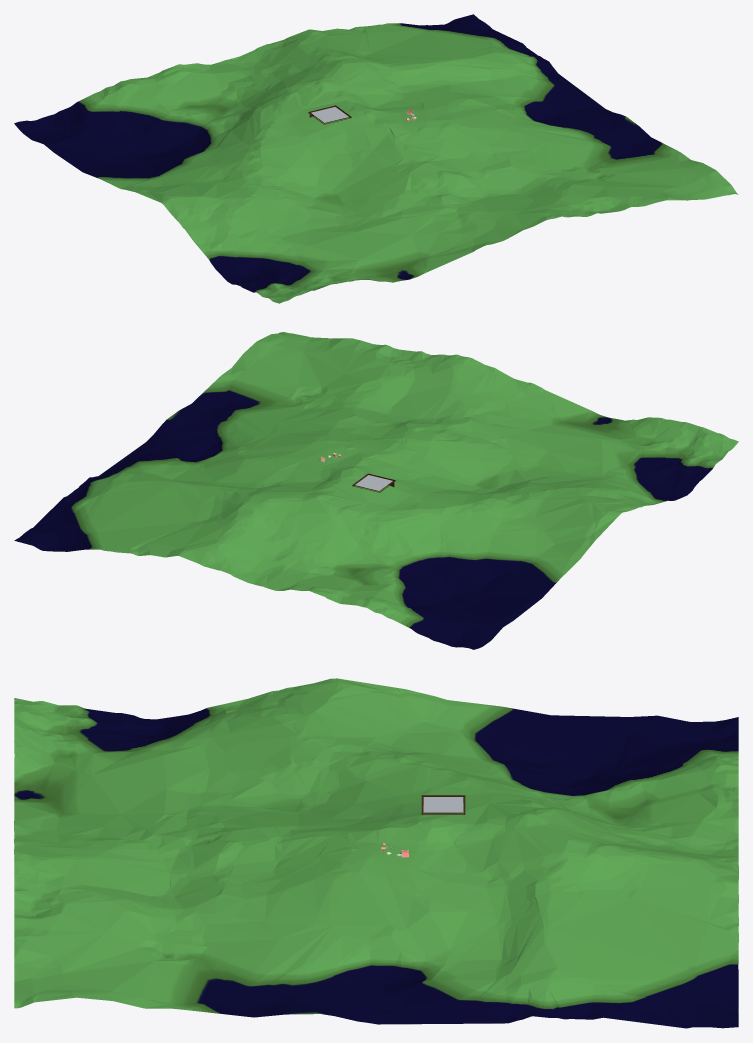
Rendered from survival.gltf.
3 renders of one model, top to bottom at view 1: azimuth 30°, elevation 25°; view 2: azimuth 150°, elevation 25°; view 3: azimuth 270°, elevation 25°, orthographic. The views are drawn at different scales.
Visible parts, largest first — view 1: TRI_C (height plane actually), TRI_C_PLACABLE (Testing Polygon); view 2: TRI_C (height plane actually); view 3: TRI_C (height plane actually), TRI_C_PLACABLE (Testing Polygon).
Boxes of the visible parts, bbox=[...] form: TRI_C (height plane actually): bbox=[14, 14, 738, 303]; TRI_C_PLACABLE (Testing Polygon): bbox=[308, 105, 351, 124]; TRI_C (height plane actually): bbox=[14, 332, 738, 649]; TRI_C (height plane actually): bbox=[14, 678, 738, 1028]; TRI_C_PLACABLE (Testing Polygon): bbox=[421, 795, 465, 814].
Size of what is drawn, in the model's own units: 267 by 27.41 by 267.
Materials: 85 (1 with a texture image).
